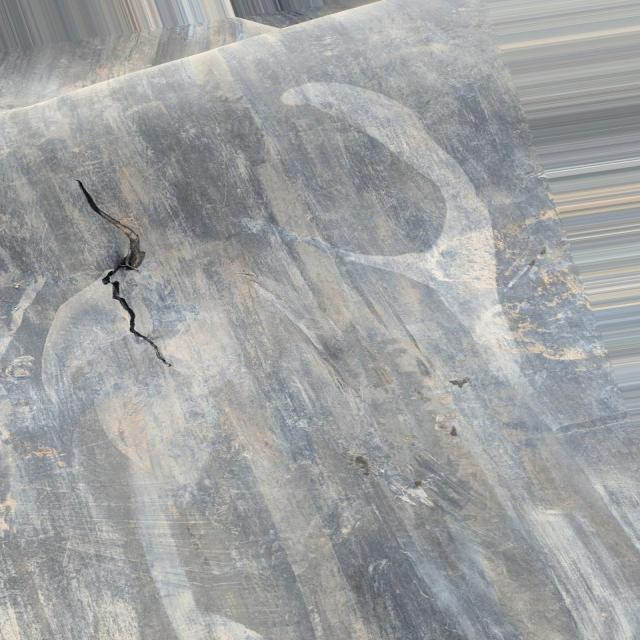Tear: (72, 174, 176, 370)
